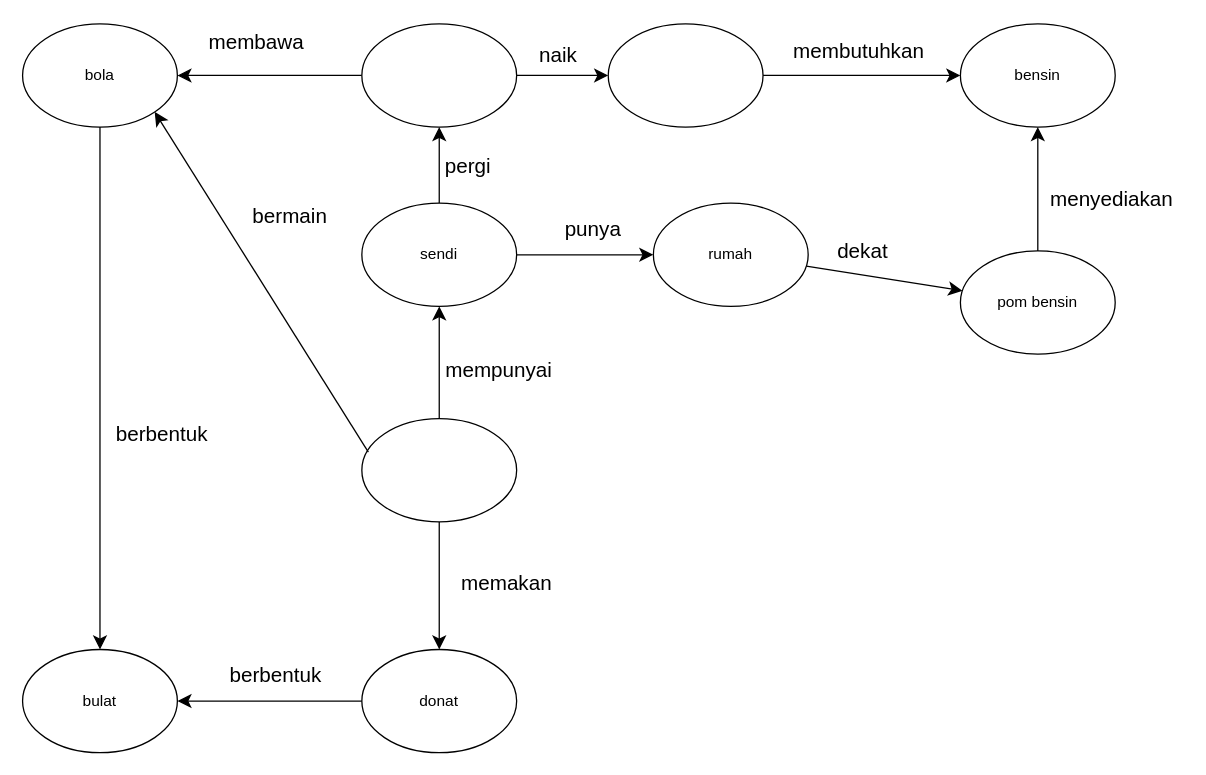
Some shapes in this 1206 by 775 pixel diagram are drawn without their labels. Each missing label, with the centre of its shape:
dessi: the point at 439,469
motor: the point at 685,75
sekolah: the point at 439,75
